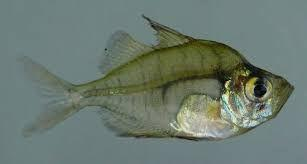Glass Perchlet: (18, 15, 296, 148)
